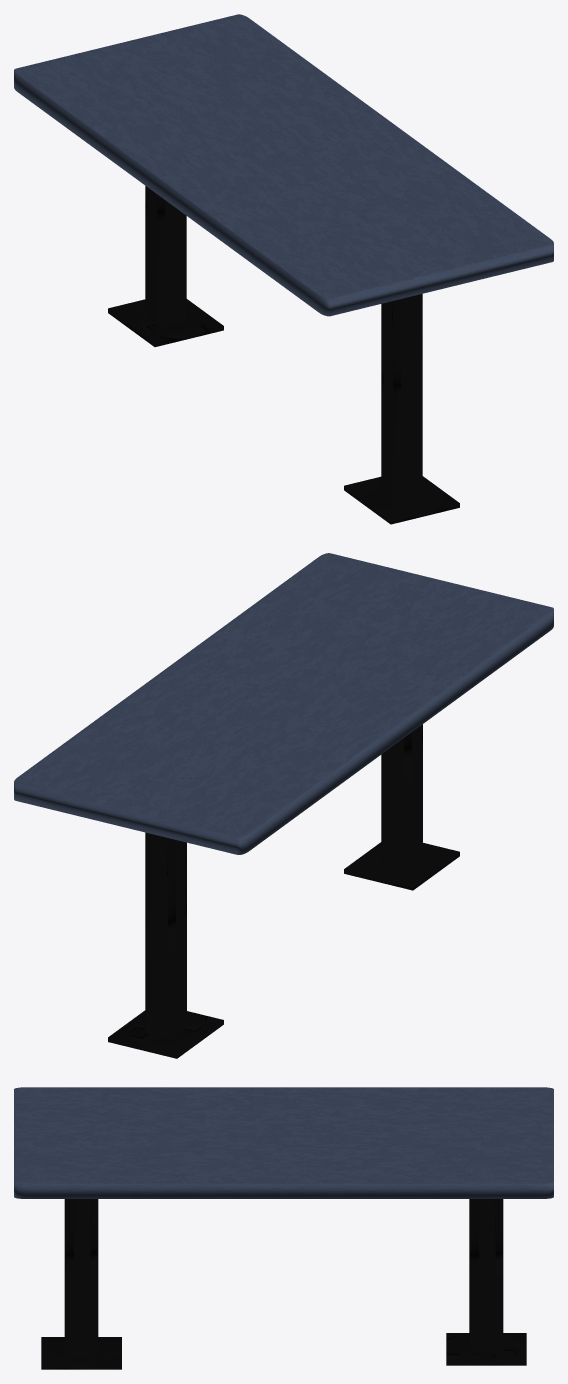
File: desk.glb
The picture shows the model from 3 angles, top to bottom: view 1: azimuth 30°, elevation 25°; view 2: azimuth 150°, elevation 25°; view 3: azimuth 270°, elevation 25°; orthographic projection. The views are drawn at different scales.
Parts seen in each view (by area): view 1: Cube; view 2: Cube; view 3: Cube.
Part boxes in pixels (left/top/right/bottom): Cube: left=14, top=14, right=553, bottom=524; Cube: left=14, top=553, right=553, bottom=1058; Cube: left=14, top=1087, right=553, bottom=1369.
Bounding box in the file's own units: 1.06 × 1.12 × 2.49.
2 materials, 1 textured.
